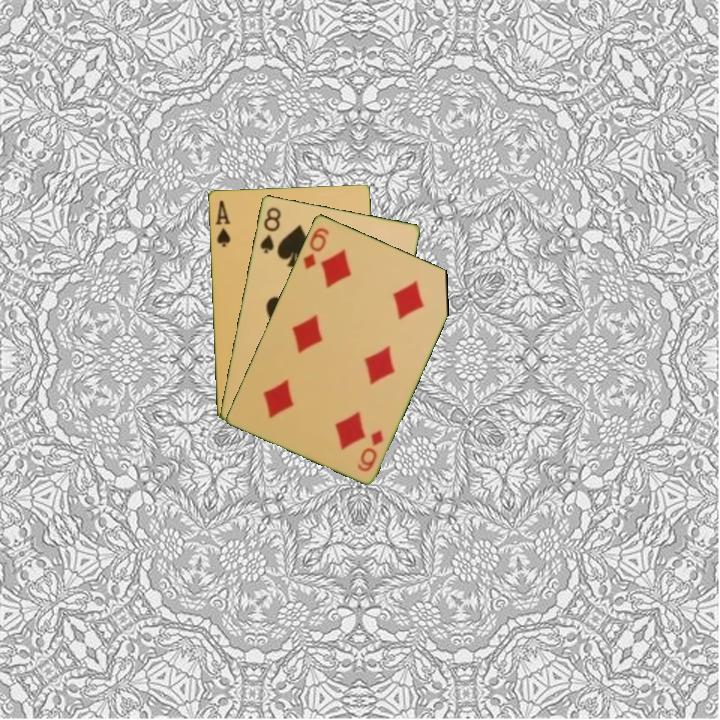6d: (299, 223, 332, 272), (354, 426, 386, 474)
8s: (256, 203, 284, 256)
As: (212, 196, 233, 250)
